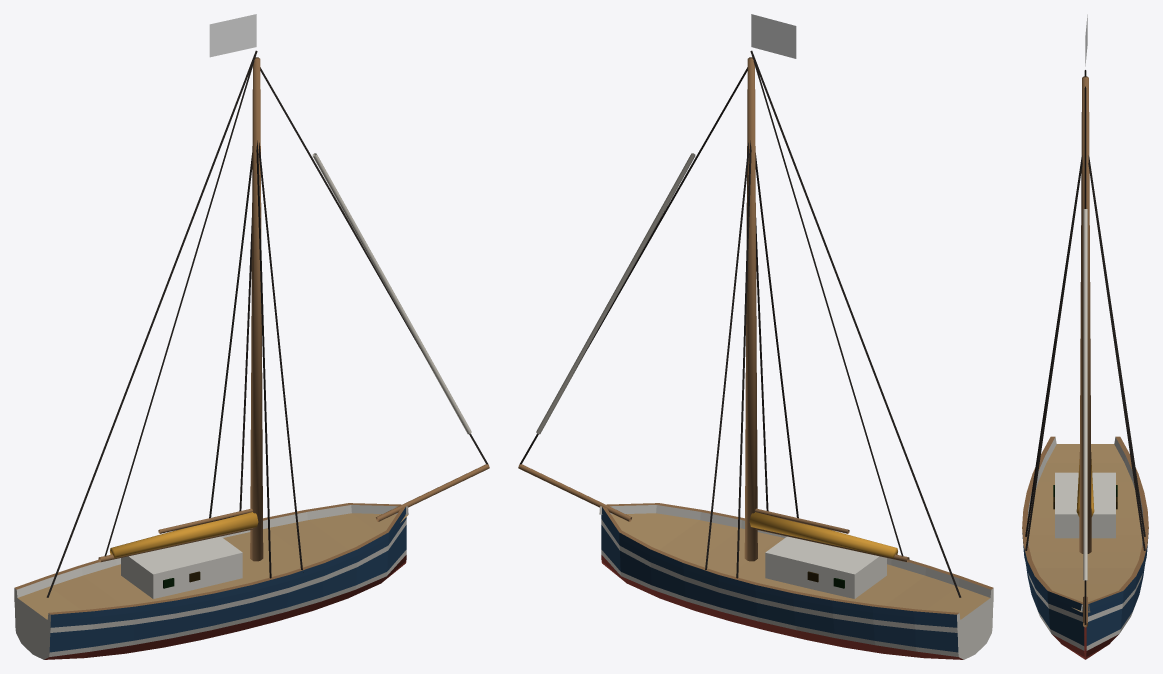
Rendered from hull_sloop_small_docked.glb.
3 views of the same model, side by side, from view 1: azimuth 30°, elevation 25°; view 2: azimuth 150°, elevation 25°; view 3: azimuth 270°, elevation 25° (orthographic). The views are drawn at different scales.
Parts seen in each view (by area): view 1: hull_sloop_small_docked_hull, hull_sloop_small_docked_rigging, hull_sloop_small_docked_mast, hull_sloop_small_docked_deck, hull_sloop_small_docked_sail_cover, hull_sloop_small_docked_sail_furled, hull_sloop_small_docked_flag; view 2: hull_sloop_small_docked_hull, hull_sloop_small_docked_rigging, hull_sloop_small_docked_mast, hull_sloop_small_docked_deck, hull_sloop_small_docked_sail_cover, hull_sloop_small_docked_sail_furled, hull_sloop_small_docked_flag; view 3: hull_sloop_small_docked_hull, hull_sloop_small_docked_mast, hull_sloop_small_docked_rigging, hull_sloop_small_docked_deck, hull_sloop_small_docked_sail_furled, hull_sloop_small_docked_sail_cover.
Boxes of the visible parts, x1,y1,x2,y2 form: hull_sloop_small_docked_hull: (14,503,408,659); hull_sloop_small_docked_rigging: (46,50,488,597); hull_sloop_small_docked_mast: (158,57,489,561); hull_sloop_small_docked_deck: (121,536,242,598); hull_sloop_small_docked_sail_cover: (110,512,258,558); hull_sloop_small_docked_sail_furled: (312,153,471,434); hull_sloop_small_docked_flag: (209,14,256,57); hull_sloop_small_docked_hull: (599,503,993,659); hull_sloop_small_docked_rigging: (519,50,961,597); hull_sloop_small_docked_mast: (518,57,849,561); hull_sloop_small_docked_deck: (765,536,886,598); hull_sloop_small_docked_sail_cover: (749,512,897,558); hull_sloop_small_docked_sail_furled: (536,153,695,434); hull_sloop_small_docked_flag: (751,14,796,58); hull_sloop_small_docked_hull: (1022,436,1148,659); hull_sloop_small_docked_mast: (1079,76,1091,627); hull_sloop_small_docked_rigging: (1025,70,1145,624); hull_sloop_small_docked_deck: (1055,472,1115,538); hull_sloop_small_docked_sail_furled: (1083,209,1087,580); hull_sloop_small_docked_sail_cover: (1076,459,1094,516).
Size of the model in its own units: 12.22 by 15.35 by 3.1.
